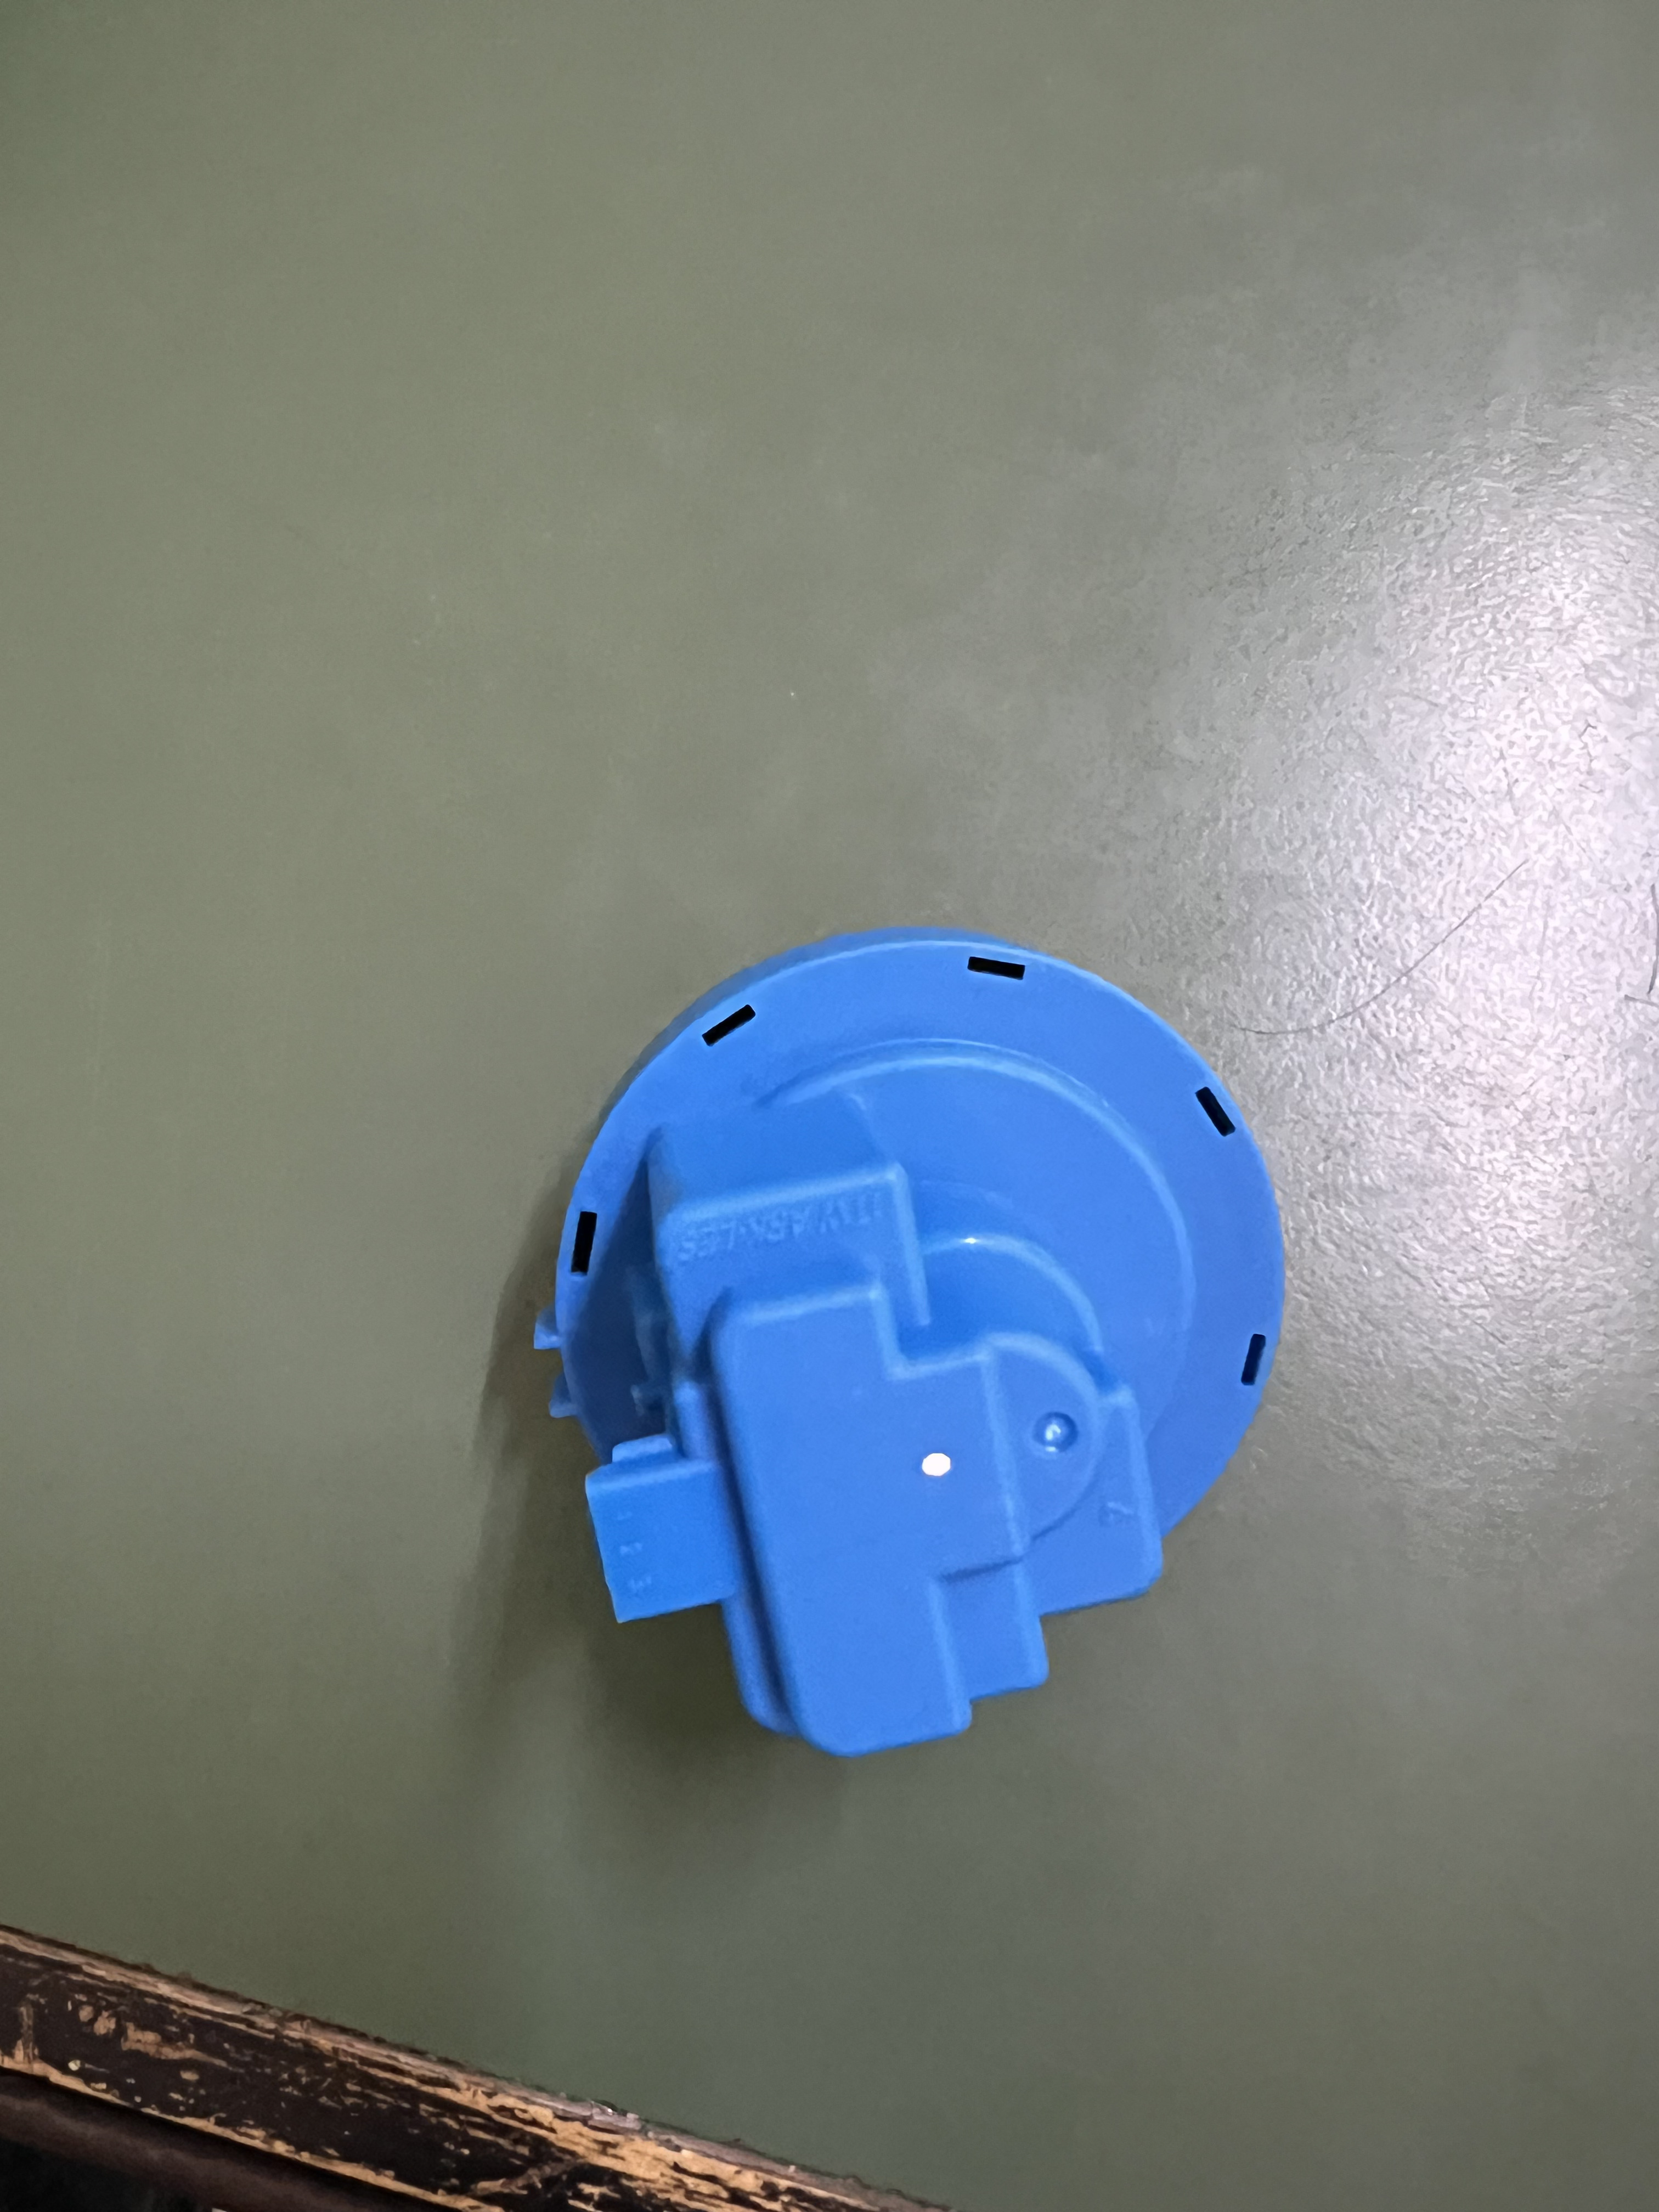voltas_beko_pressure_switch: (490, 836, 1328, 1789)
